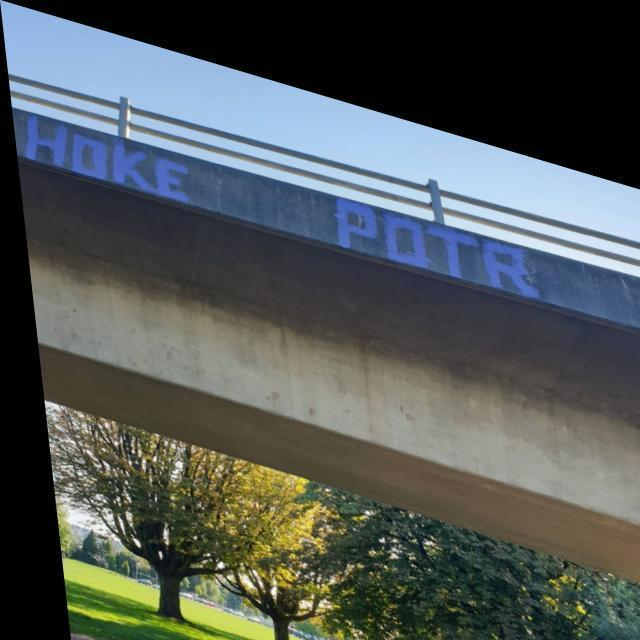nonspitting: (336, 196, 540, 300), (25, 115, 191, 204)
